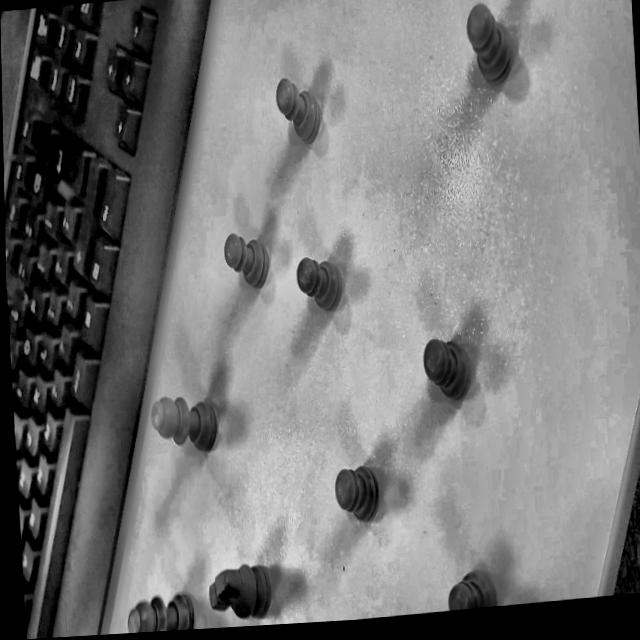white-bishop: (144, 385, 232, 456), (119, 571, 206, 634)
white-knight: (205, 540, 290, 629)
white-pawn: (442, 0, 542, 102), (413, 321, 487, 413), (287, 241, 362, 321), (325, 451, 391, 529), (265, 70, 336, 141), (218, 220, 281, 299), (434, 551, 511, 612)
